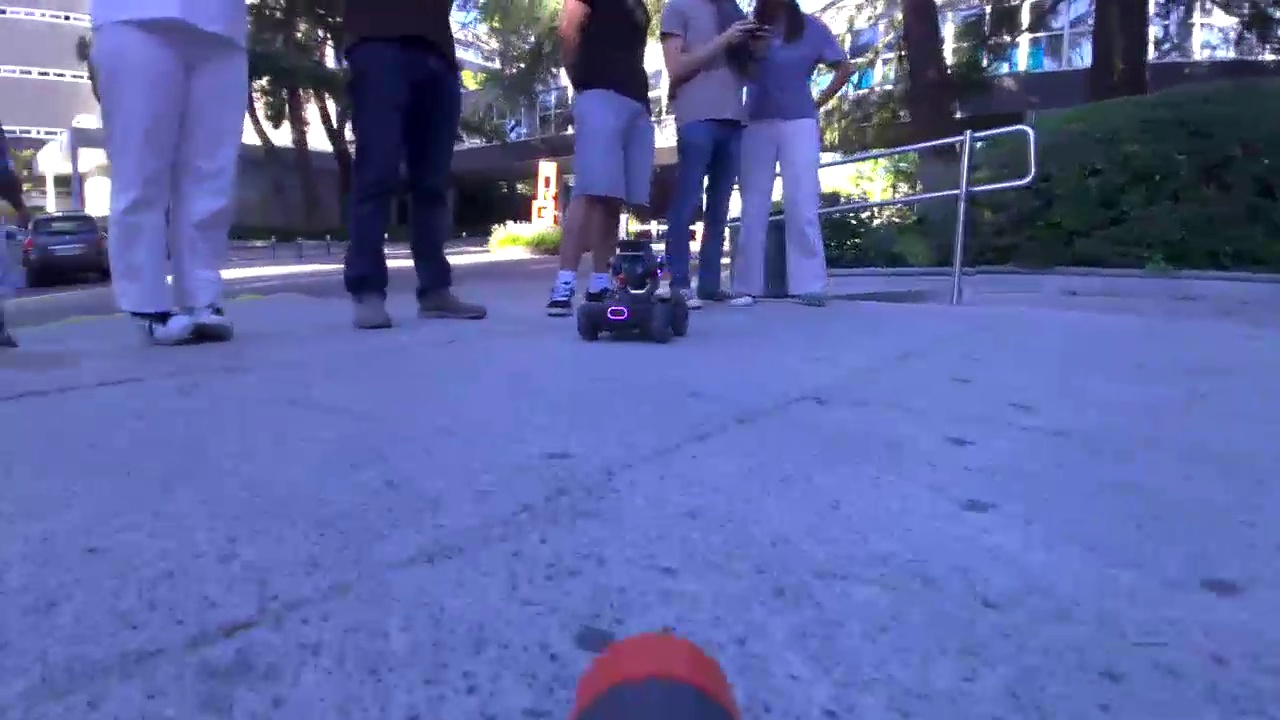robot: (576, 240, 691, 345)
